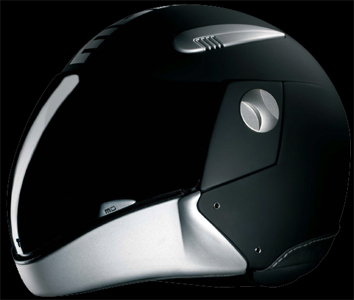helmet: (20, 9, 337, 283)
